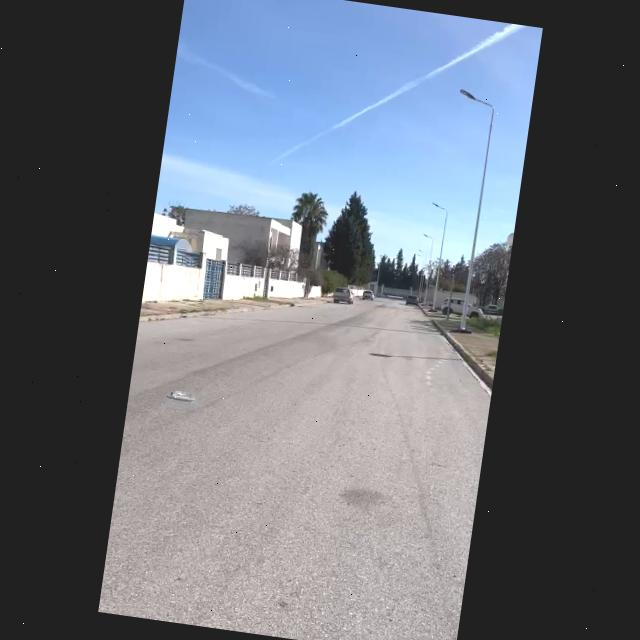trash: (163, 384, 199, 409)
